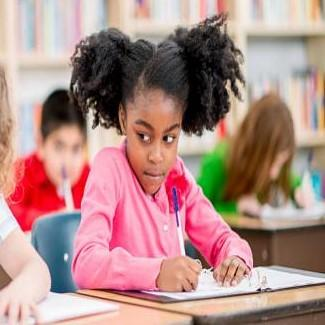cheating: (62, 19, 250, 311)
